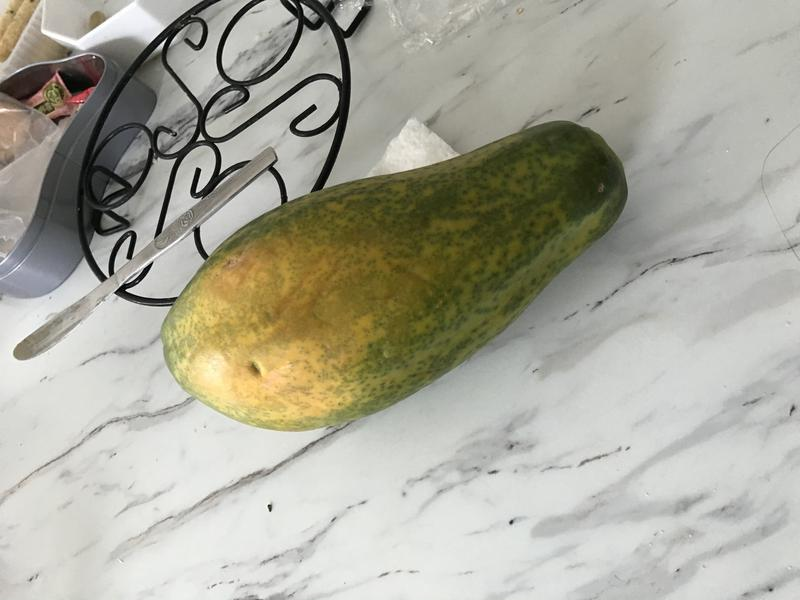papaya: (155, 111, 642, 445)
